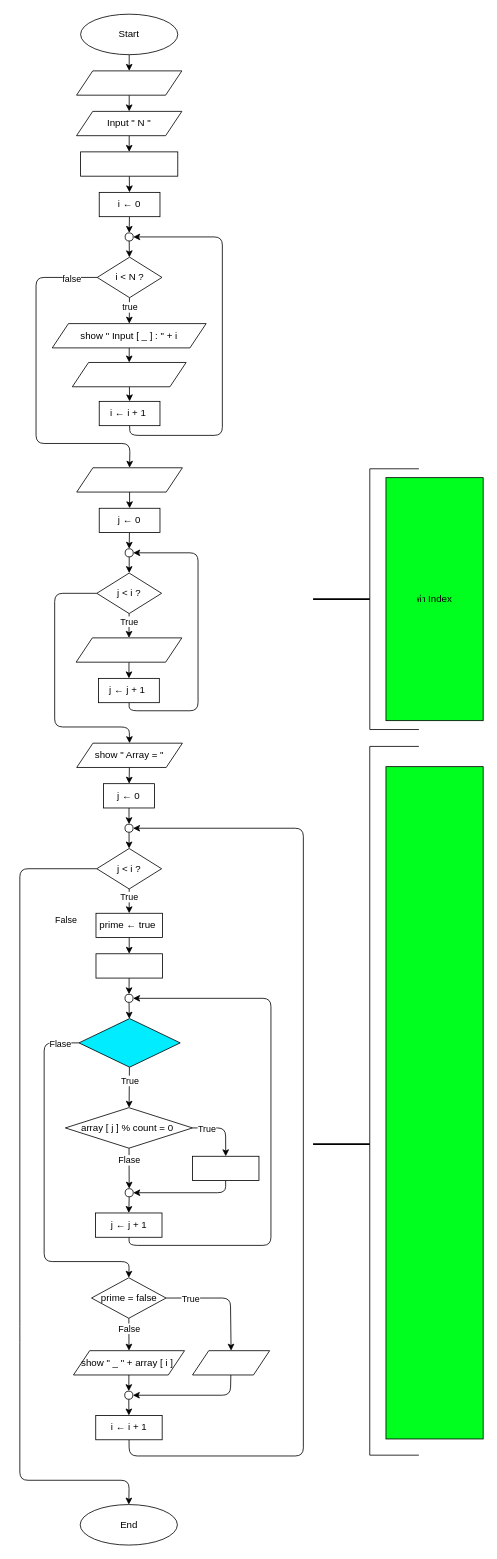
Image size: 497x1559. Some labels were removed from this diagram. The centre of each missing label's shape, as x and y in pixels:
count < array [ j ] ?: (x=129, y=1042)
count ← 2: (x=128, y=965)
input " array [ i ] ": (x=129, y=374)
prime ← false: (x=225, y=1168)
show " # ": (x=231, y=1362)
show " _ " + j: (x=128, y=649)
show " Index = ": (x=129, y=479)
show "Enter N : ": (x=129, y=82)
กำหนด array[ N ]: (x=129, y=163)
ค่า Array: (x=434, y=1102)
